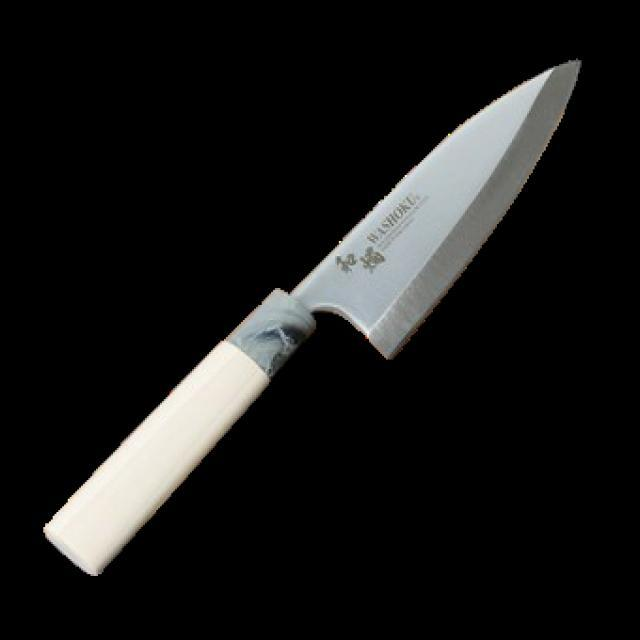knife: (33, 56, 587, 588)
